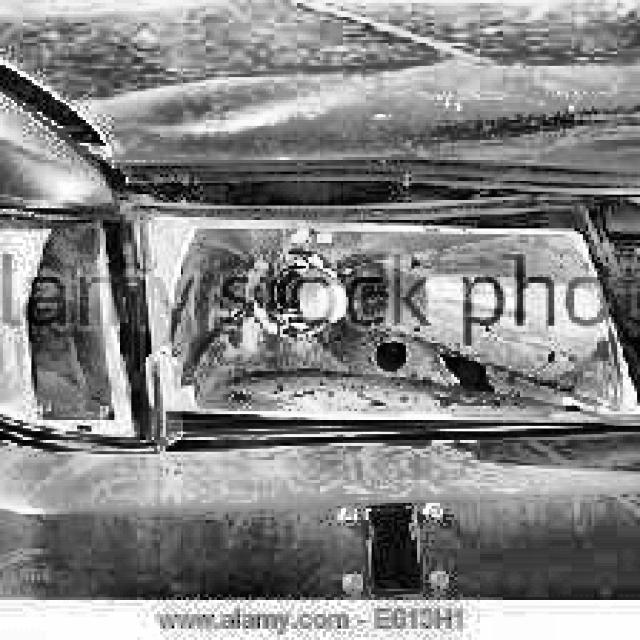head_lamp: (75, 185, 640, 436)
